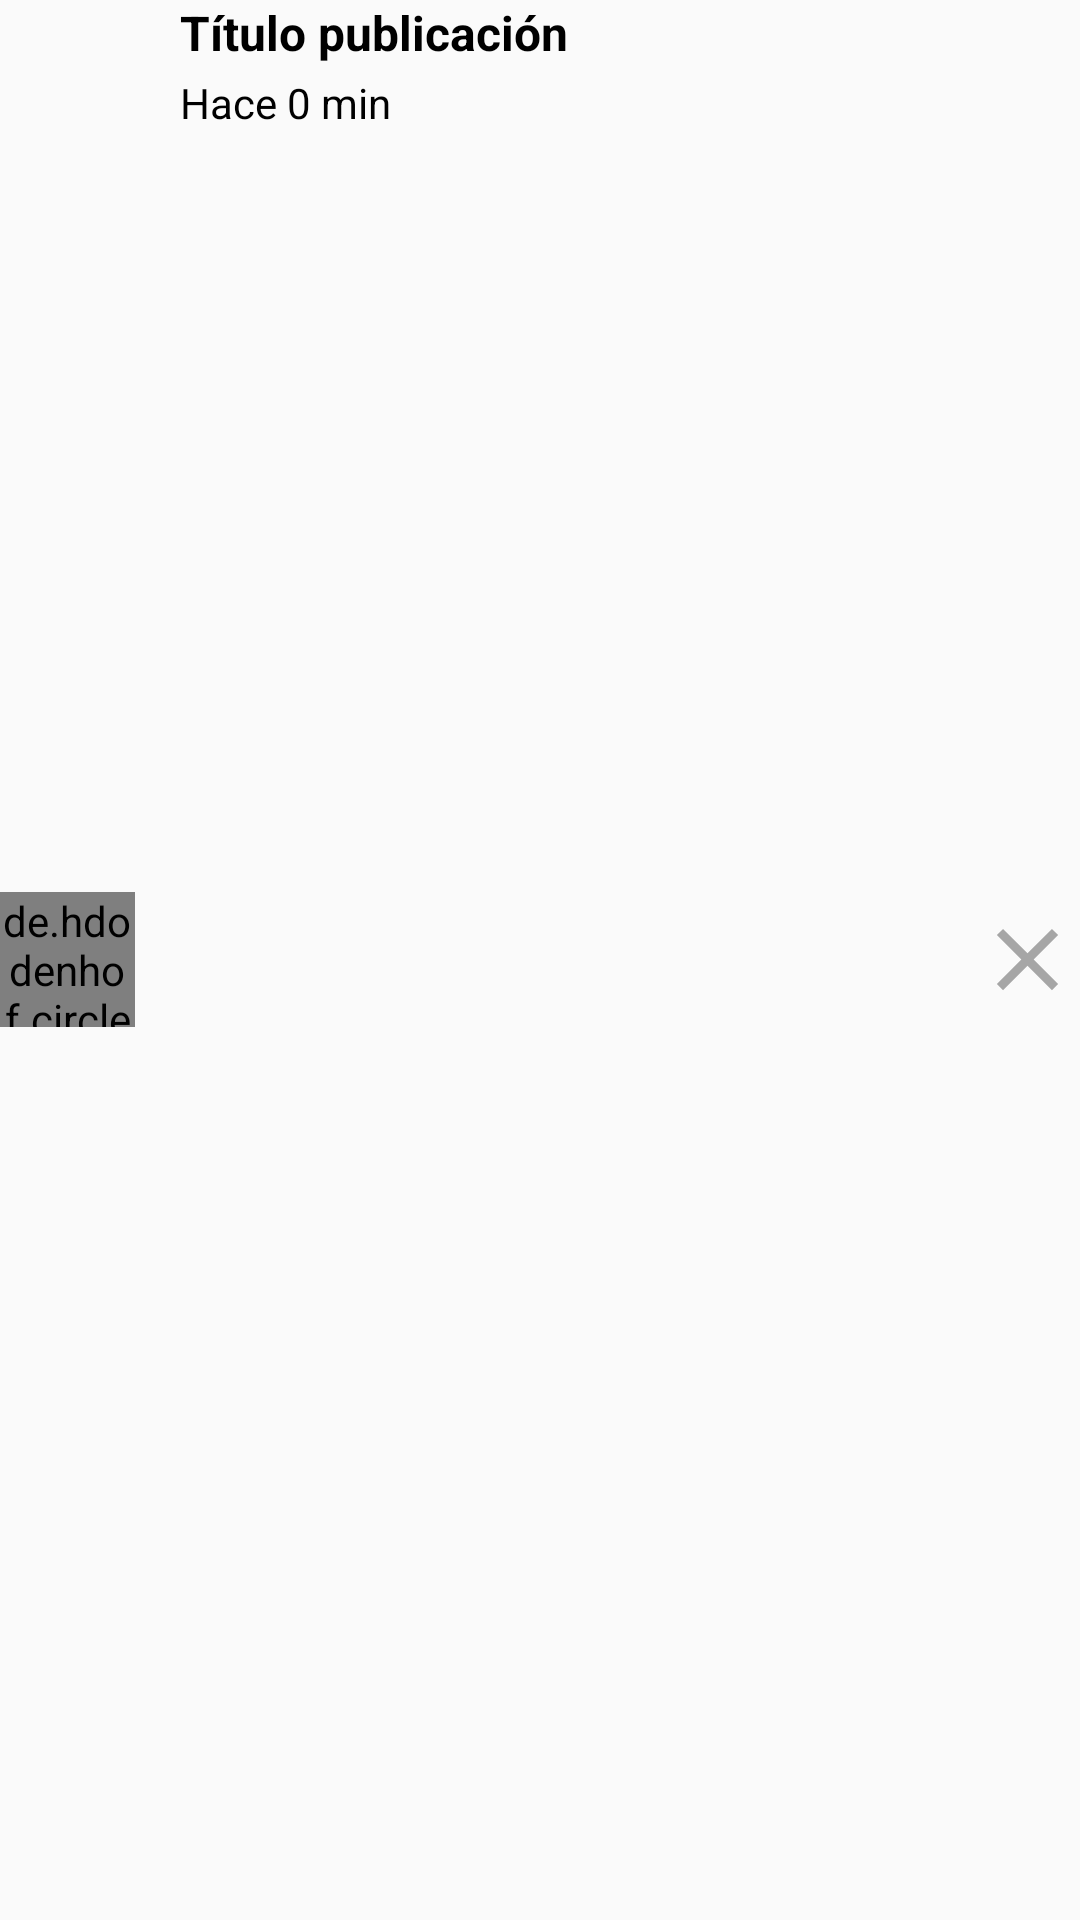

Icons on this 1080 x 1920 Android screen, each with its box as Rect(x1, y1, x2, y2):
cancel: Rect(997, 929, 1058, 990)
